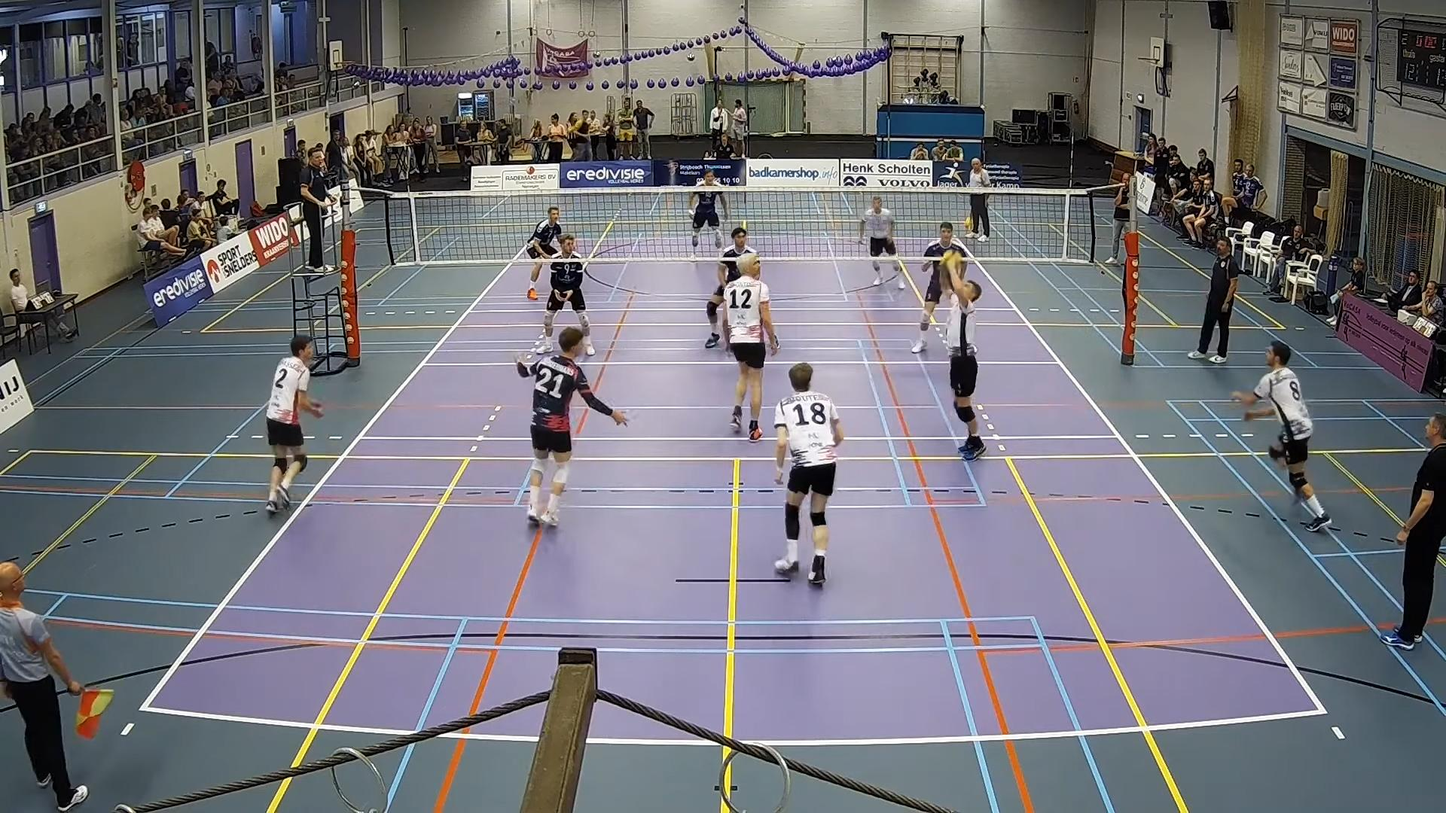Player: (517, 327, 626, 525), (1232, 341, 1331, 531), (774, 363, 844, 586), (724, 254, 778, 441), (266, 336, 322, 513), (911, 221, 966, 353), (539, 235, 594, 355), (705, 227, 756, 349), (526, 206, 562, 299), (859, 196, 896, 285), (688, 169, 728, 250)
Set: (940, 263, 993, 463)
ball: (943, 253, 968, 267)
